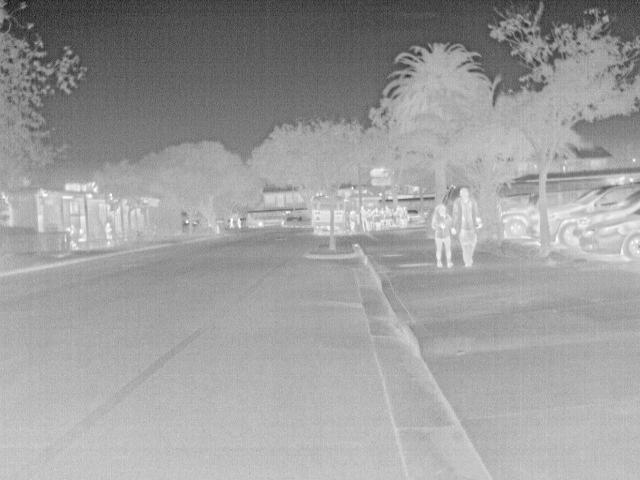car: (546, 181, 639, 250), (578, 204, 639, 266), (499, 203, 538, 238), (406, 208, 422, 222)
person: (448, 188, 482, 268), (431, 203, 459, 269), (357, 204, 371, 232), (371, 207, 384, 233), (64, 226, 77, 250), (104, 220, 114, 242), (74, 227, 88, 242), (235, 215, 243, 226)
